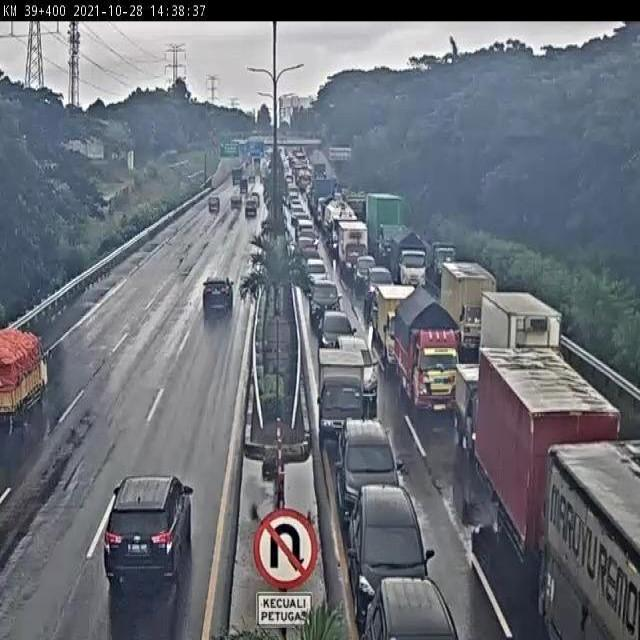big truck: (480, 359, 618, 556), (543, 441, 640, 640), (482, 293, 580, 388), (359, 184, 412, 257)
car: (340, 481, 441, 580), (100, 477, 196, 575), (367, 569, 462, 640), (331, 409, 407, 496), (205, 252, 243, 299), (358, 269, 394, 307), (310, 279, 343, 317), (328, 315, 357, 356)
small truck: (0, 304, 85, 408), (391, 286, 463, 402), (310, 347, 378, 436), (441, 268, 497, 349), (369, 276, 419, 360), (338, 256, 378, 305)
